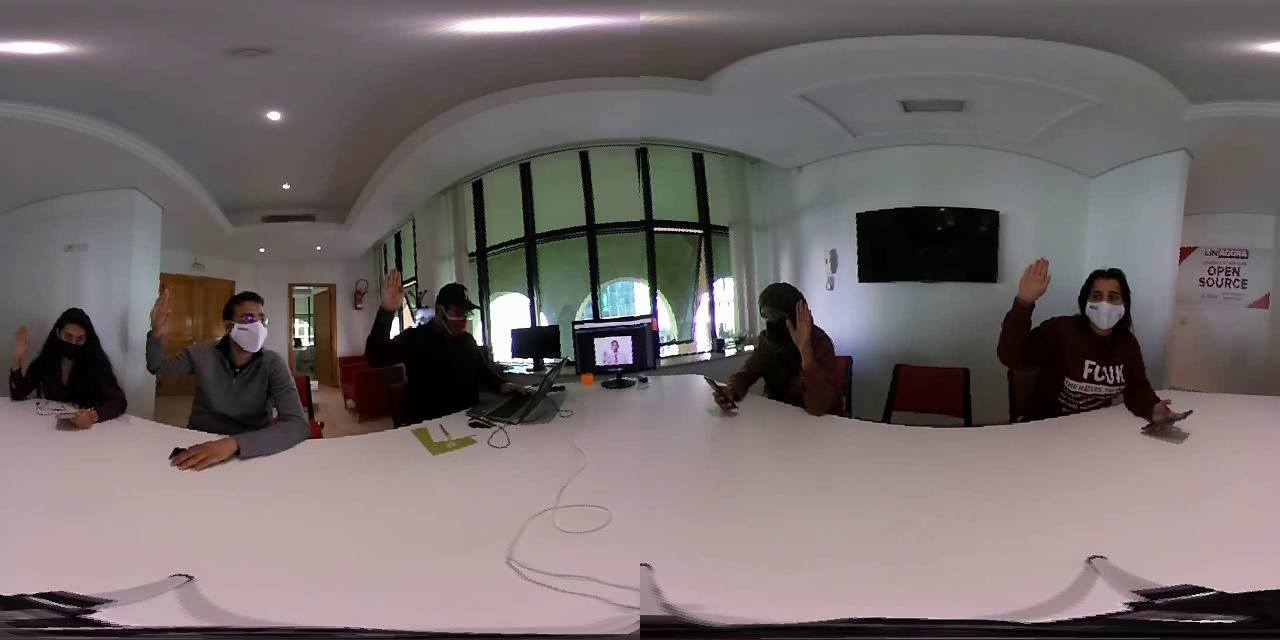person: (992, 246, 1176, 432), (133, 268, 311, 458), (352, 252, 514, 417), (702, 272, 849, 424), (1, 299, 125, 427)
voting: (1000, 254, 1058, 368), (780, 294, 832, 403), (362, 263, 413, 369), (137, 281, 182, 388), (3, 320, 36, 402)
